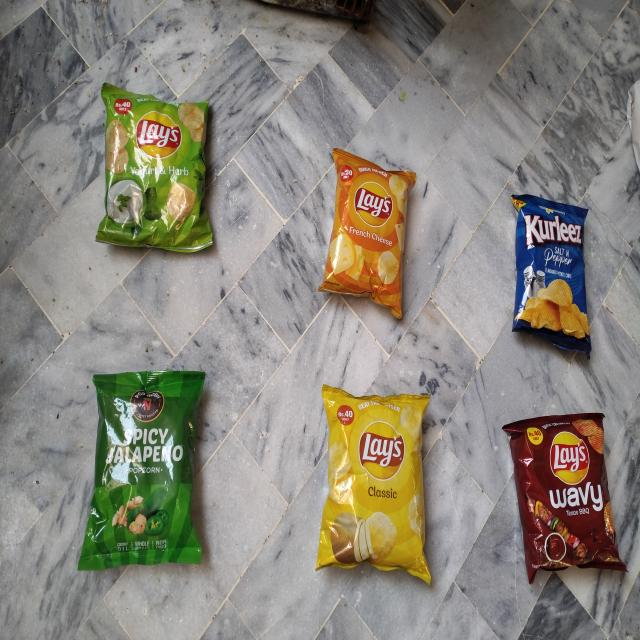Plastic: (82, 365, 212, 570), (317, 384, 443, 586), (499, 408, 629, 588), (98, 96, 218, 256), (325, 146, 417, 324), (510, 192, 598, 364)
